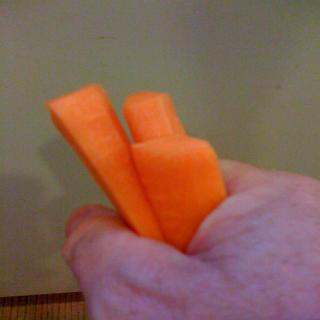Carrot: (44, 81, 164, 243), (135, 138, 228, 247), (120, 90, 188, 138)
